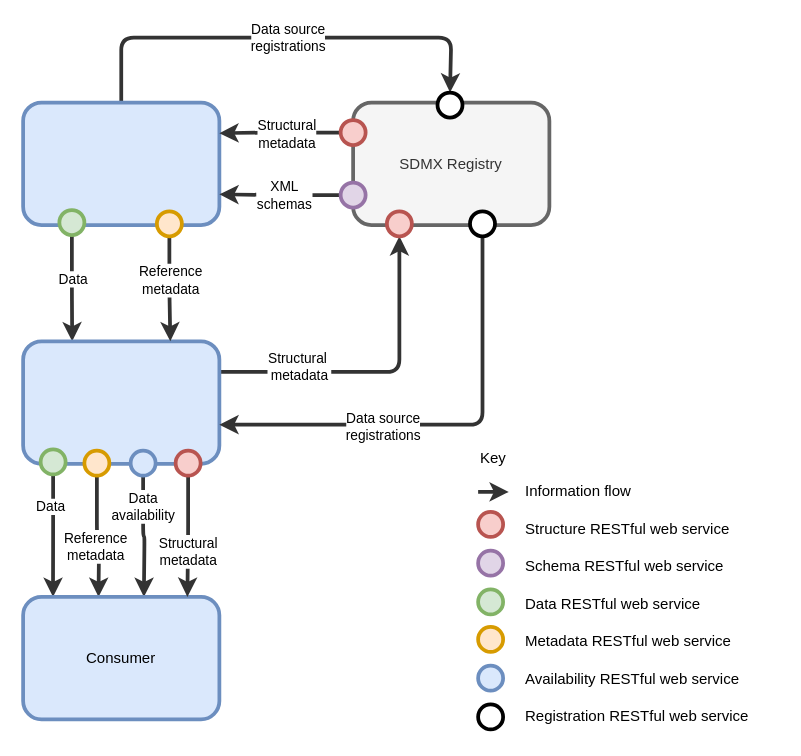
Image size: 801x756. Some labels were removed from this diagram. Here are the shapes that lost their labels. From the top down, the box of each, then its label:
(21, 100, 221, 226): Provider
(21, 339, 221, 465): Collector and Publisher
